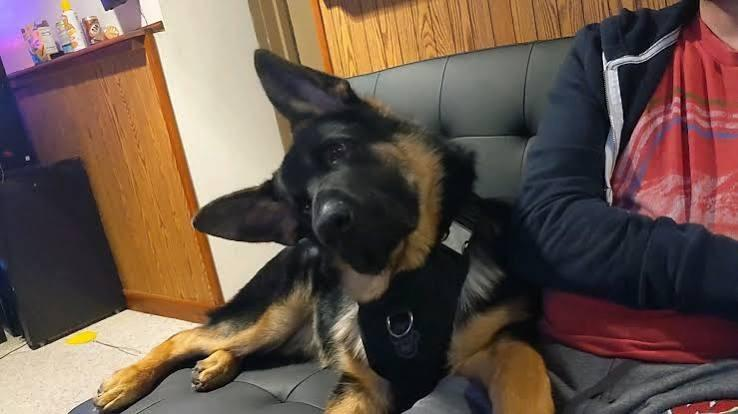adult_dog: (94, 44, 557, 414)
